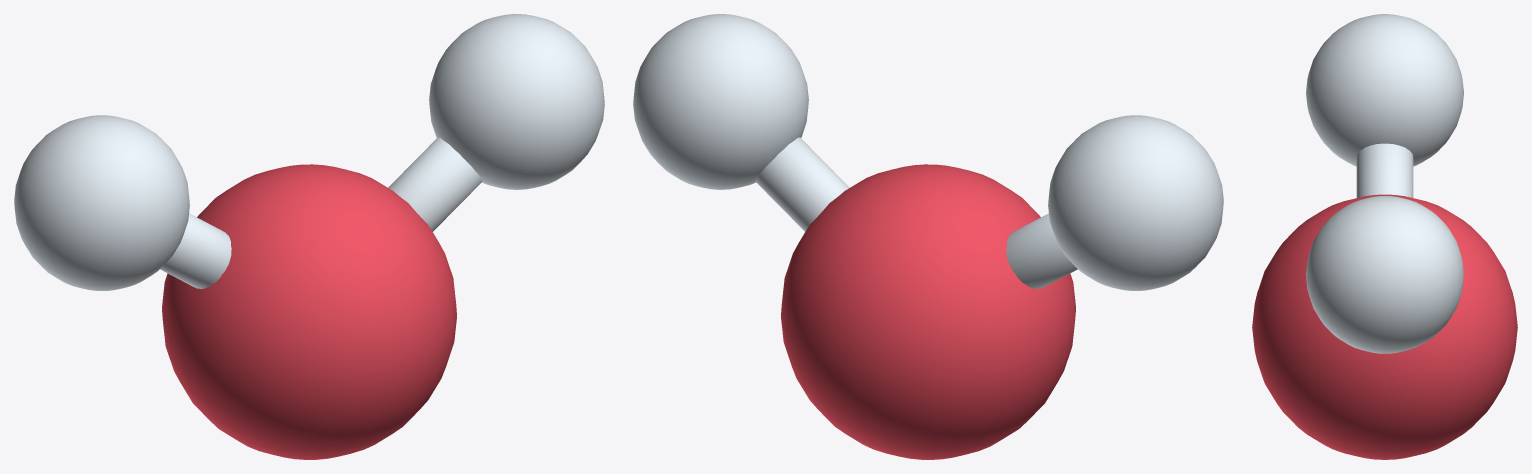
File: water-molecule-quality.glb
3 renders of one model, left to right at view 1: azimuth 30°, elevation 25°; view 2: azimuth 150°, elevation 25°; view 3: azimuth 270°, elevation 25°, orthographic. The views are drawn at different scales.
Parts seen in each view (by area): view 1: Oxygen; view 2: Oxygen; view 3: Oxygen.
Boxes of the visible parts, left/top/right/bottom form: Oxygen: left=14, top=14, right=604, bottom=459; Oxygen: left=633, top=14, right=1223, bottom=459; Oxygen: left=1252, top=14, right=1517, bottom=459.
Size of the model in its own units: 1.86 by 1.17 by 0.84.
